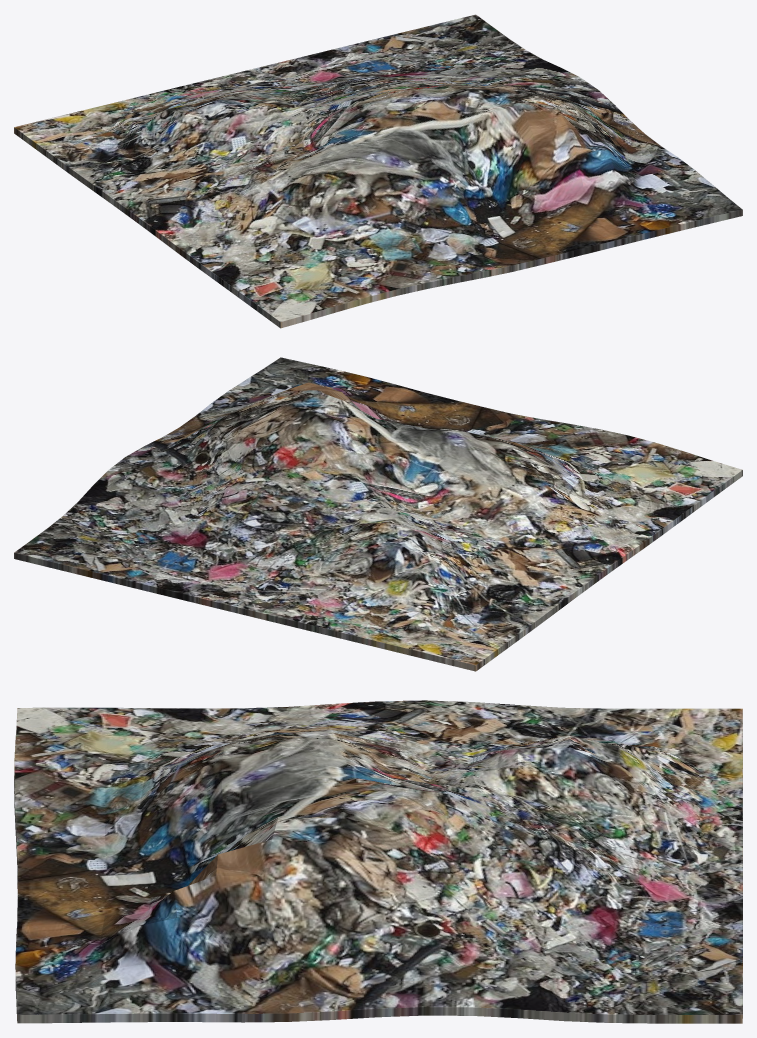
The model's file is garbage02.fbx.
3 views of the same model, one above another, from view 1: azimuth 30°, elevation 25°; view 2: azimuth 150°, elevation 25°; view 3: azimuth 270°, elevation 25° (orthographic). The views are drawn at different scales.
Visible parts, largest first — view 1: Plane; view 2: Plane; view 3: Plane.
Part boxes in pixels (box(x1,y1,x2,y2)): Plane: box(14, 14, 742, 328); Plane: box(14, 357, 742, 671); Plane: box(14, 700, 742, 1023).
Bounding box in the file's own units: 408 × 62.65 × 402.
